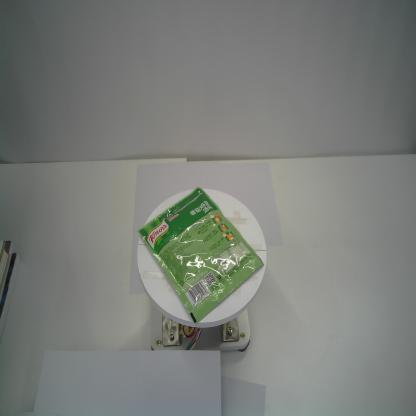Seasoner: (138, 186, 264, 324)
